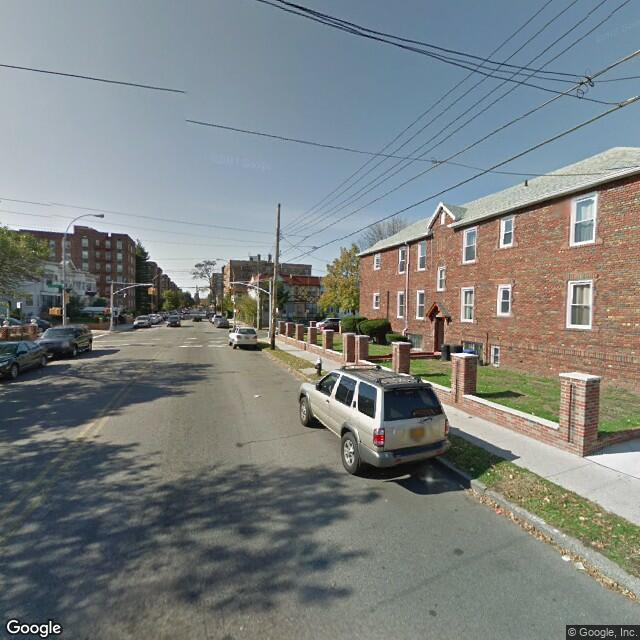litter: (246, 387, 269, 408), (552, 550, 578, 566)
